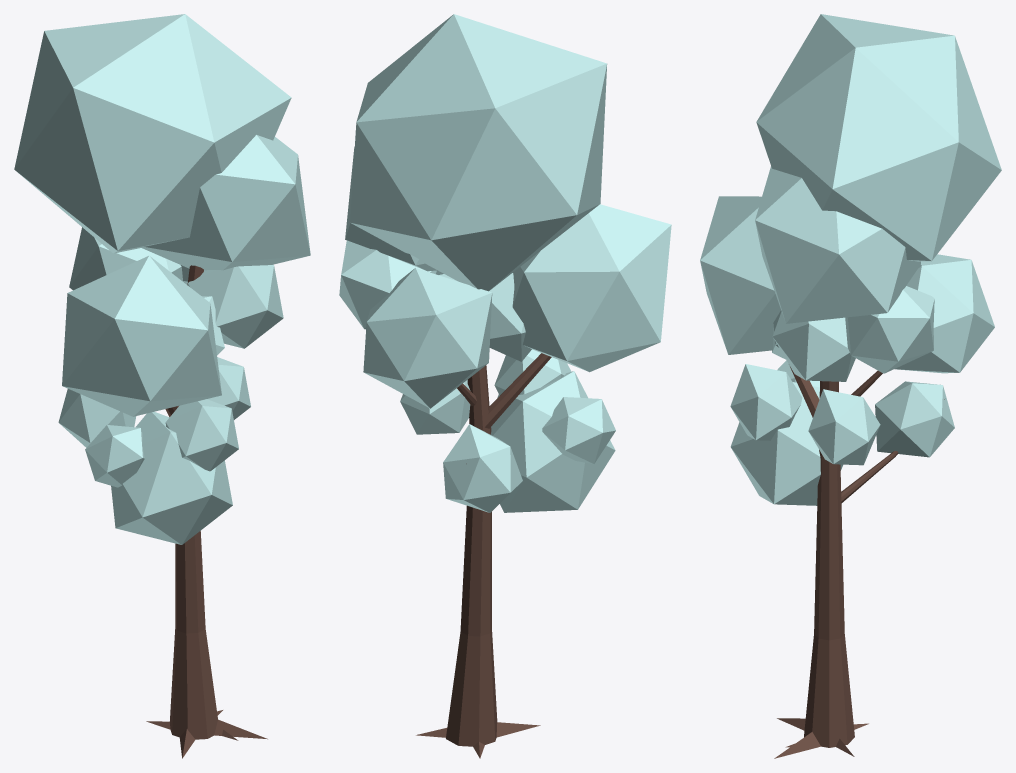
Rendered from WinterTree_05.fbx.
3 views of the same model, side by side, from view 1: azimuth 30°, elevation 25°; view 2: azimuth 150°, elevation 25°; view 3: azimuth 270°, elevation 25° (orthographic). The views are drawn at different scales.
Parts seen in each view (by area): view 1: WinterTree_05; view 2: WinterTree_05; view 3: WinterTree_05.
Part boxes in pixels (x1,y1,x2,y2): WinterTree_05: (14,14,310,758); WinterTree_05: (339,14,671,758); WinterTree_05: (700,14,1001,758).
Size of the model in its own units: 401 by 1015 by 402.
